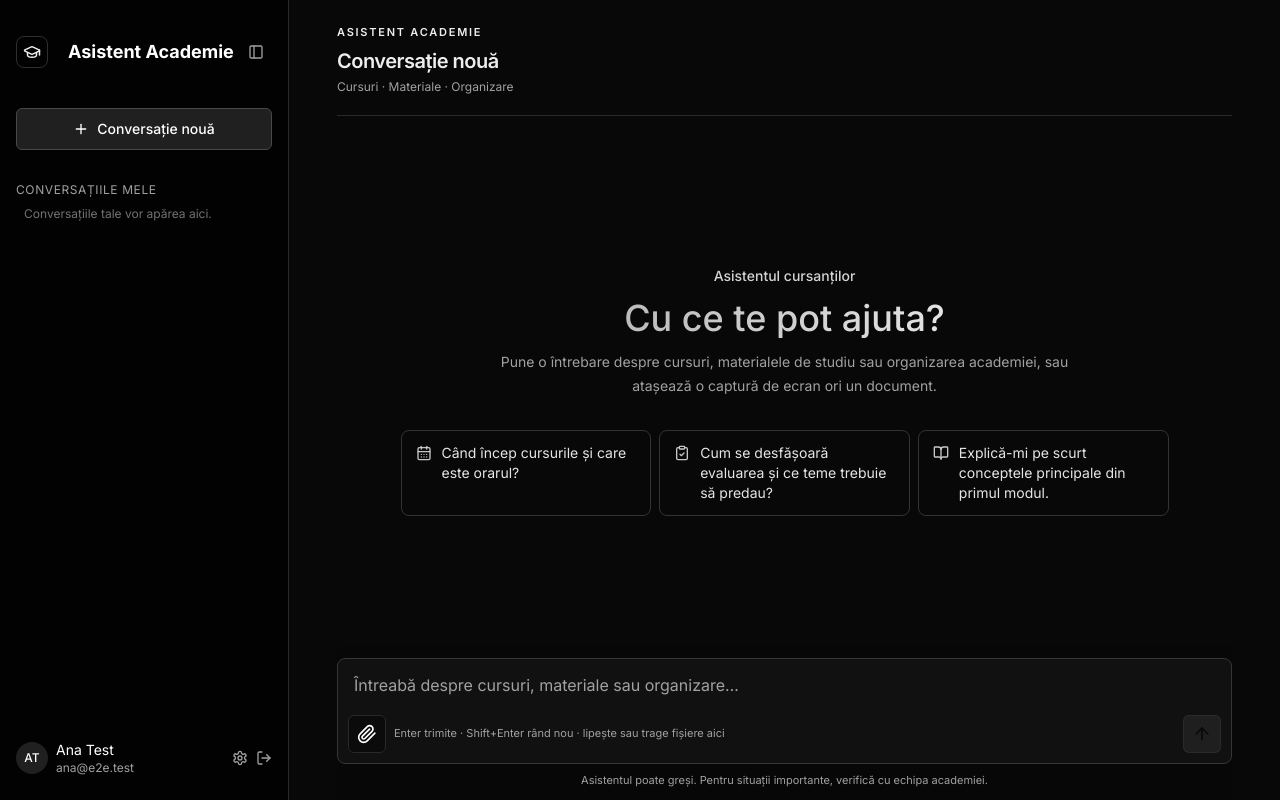
CHAT-01 Start a session › CHAT-01 answered (S38): a question of several lines shows once
Click the field named "Întrebarea ta": click(784, 686) [338,658,1231,714]
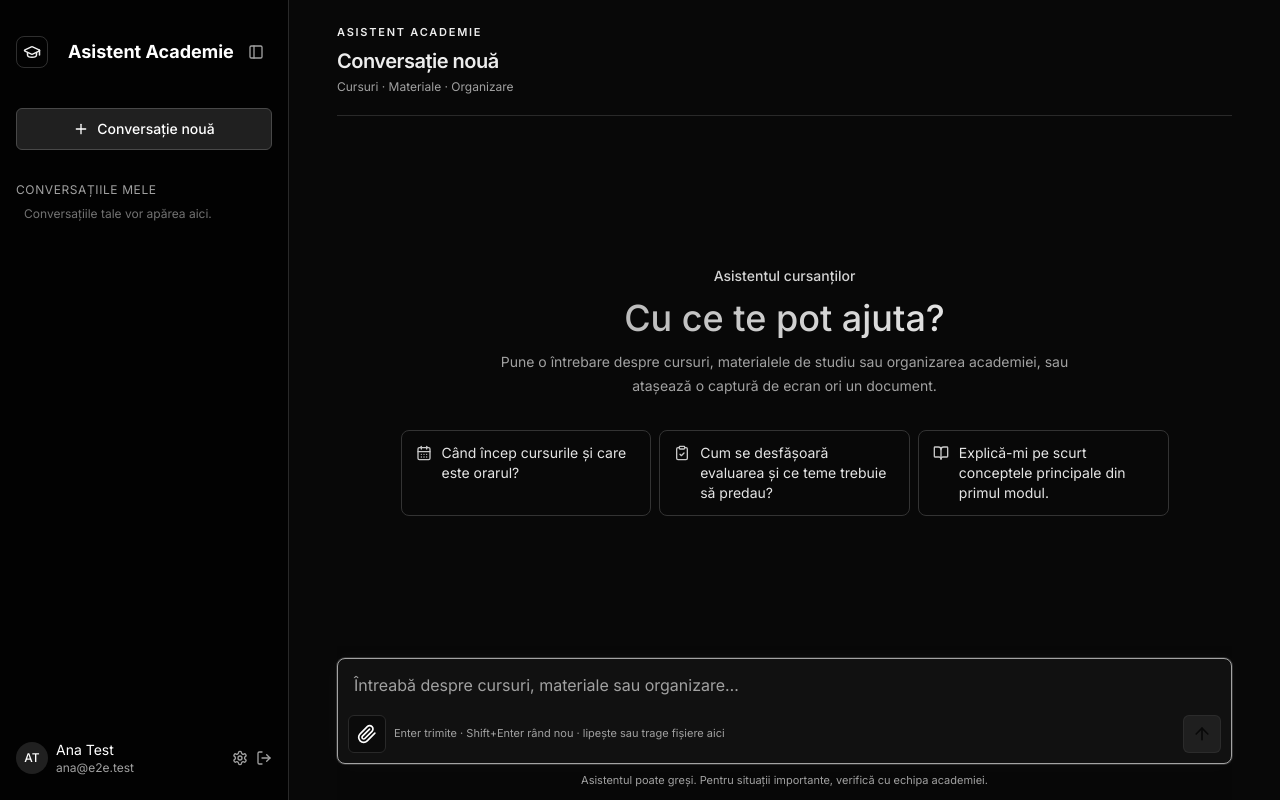
Type keys "Primul rând{Shift>}{Enter}{/Shift}al doilea rând{Enter}"
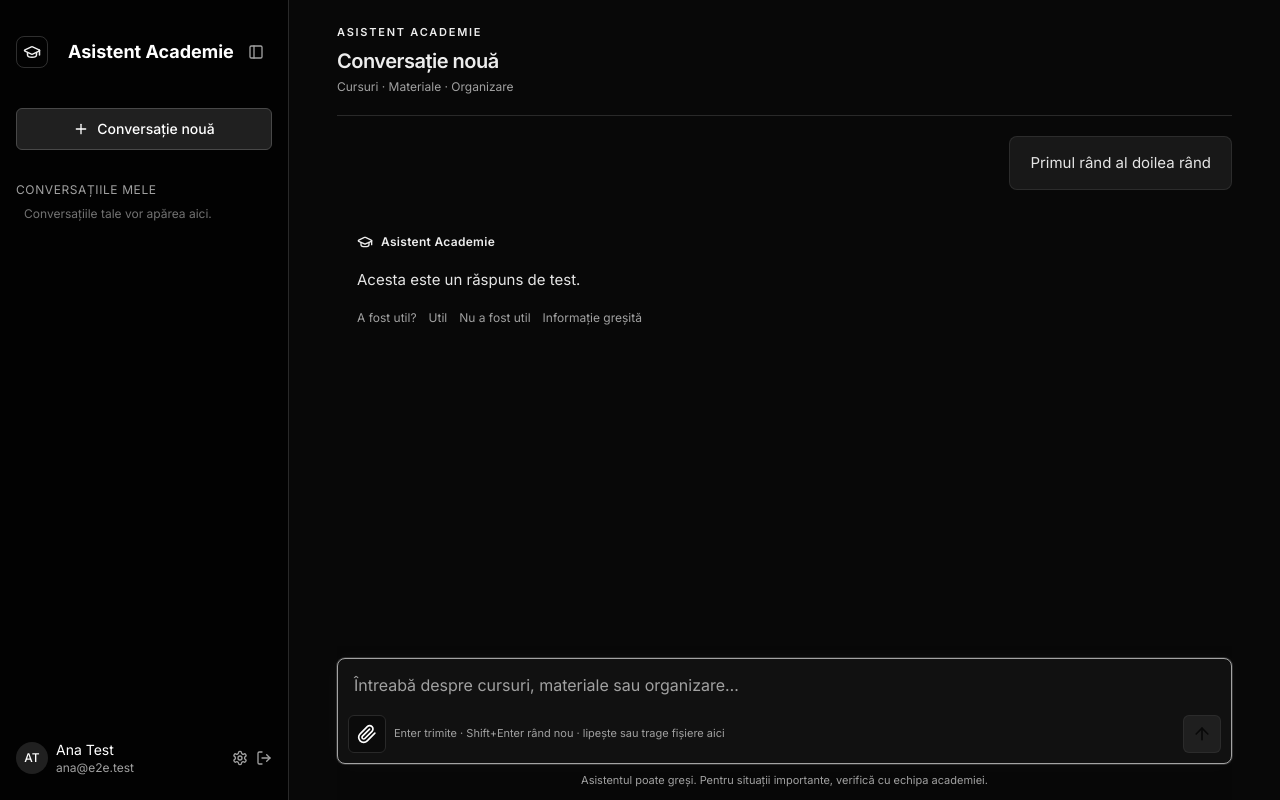
Now the text "Acesta este un răspuns de test." is shown, box [357,270,580,288]
